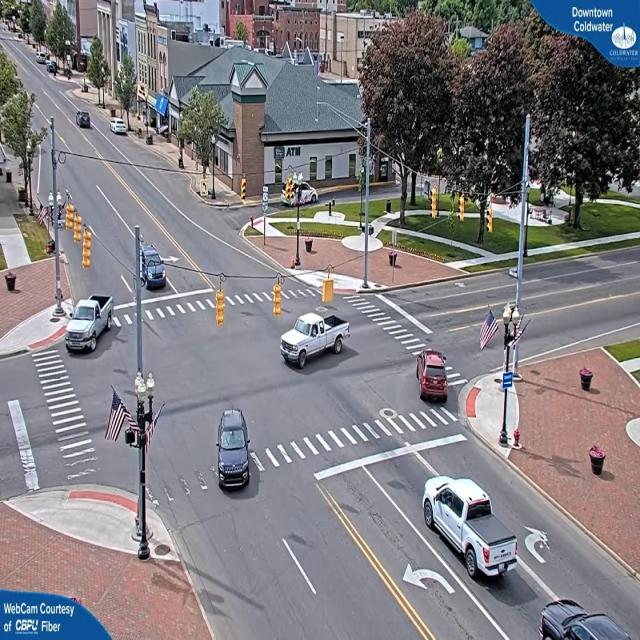car: (422, 476, 514, 584), (280, 310, 348, 370), (539, 602, 640, 639), (216, 408, 255, 489), (63, 298, 112, 354), (416, 349, 452, 403), (135, 244, 166, 288), (286, 182, 320, 206), (111, 119, 129, 136), (78, 112, 92, 130)
